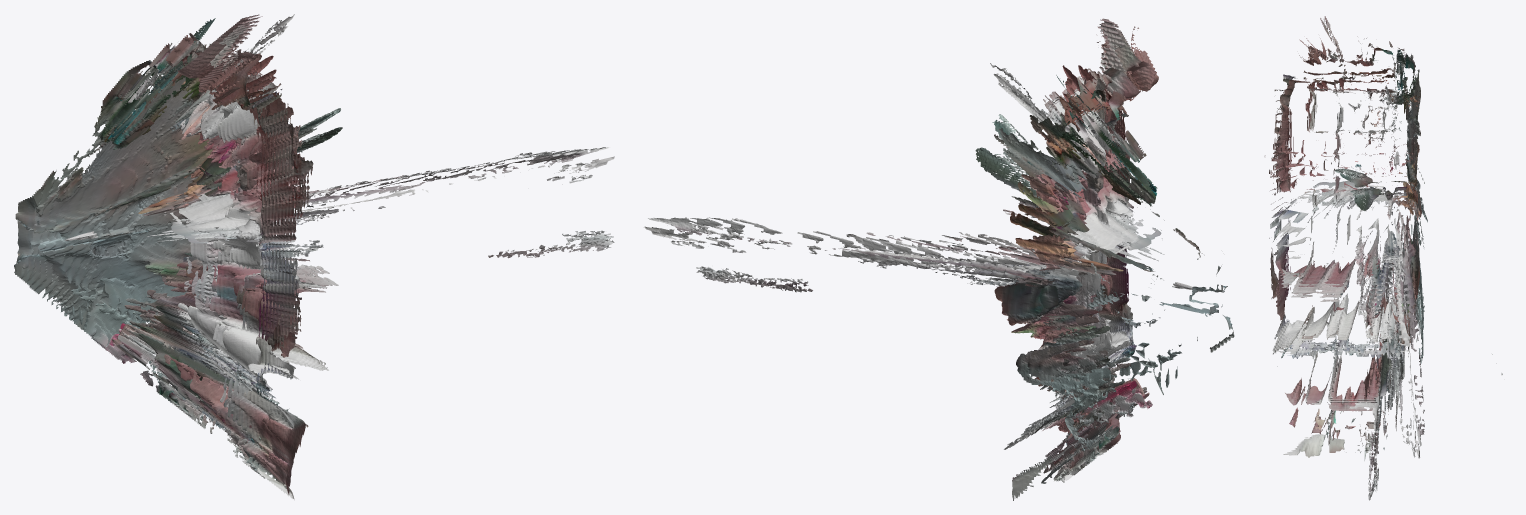
Rendered from 2dgs.glb.
The picture shows the model from 3 angles, left to right: view 1: azimuth 30°, elevation 25°; view 2: azimuth 150°, elevation 25°; view 3: azimuth 270°, elevation 25°; orthographic projection. The views are drawn at different scales.
Parts seen in each view (by area): view 1: geometry_0; view 2: geometry_0; view 3: geometry_0.
Boxes of the visible parts, x1=… form: geometry_0: x1=14, y1=14, x2=614, y2=499; geometry_0: x1=643, y1=18, x2=1234, y2=500; geometry_0: x1=1264, y1=16, x2=1502, y2=500.
Bounding box in the file's own units: 22.2 × 16.65 × 8.7.
